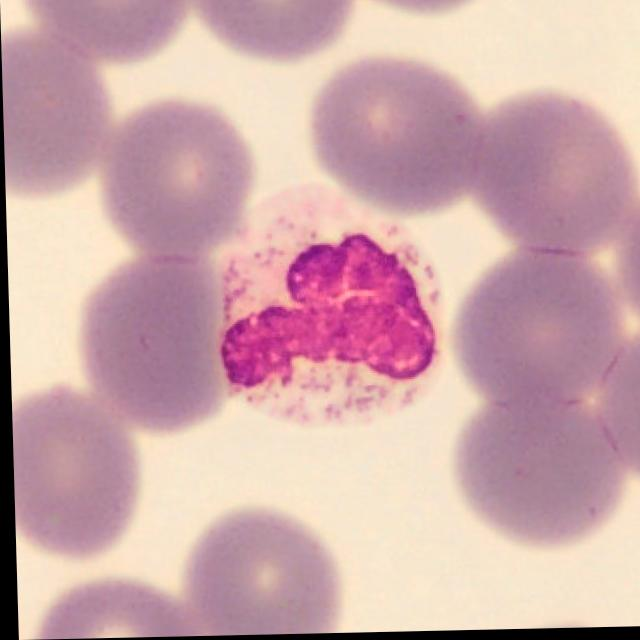Neutrofilo segmentado: (217, 183, 447, 431)
